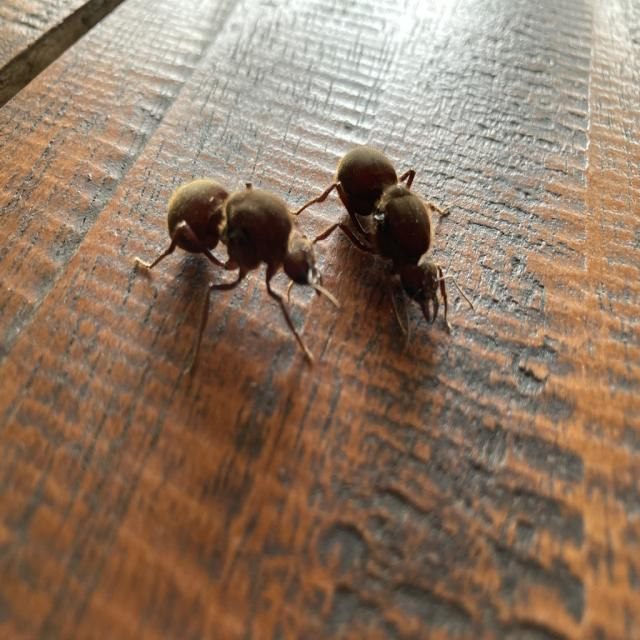Alive-Female-Dealate: (133, 177, 341, 376), (290, 146, 474, 353)
